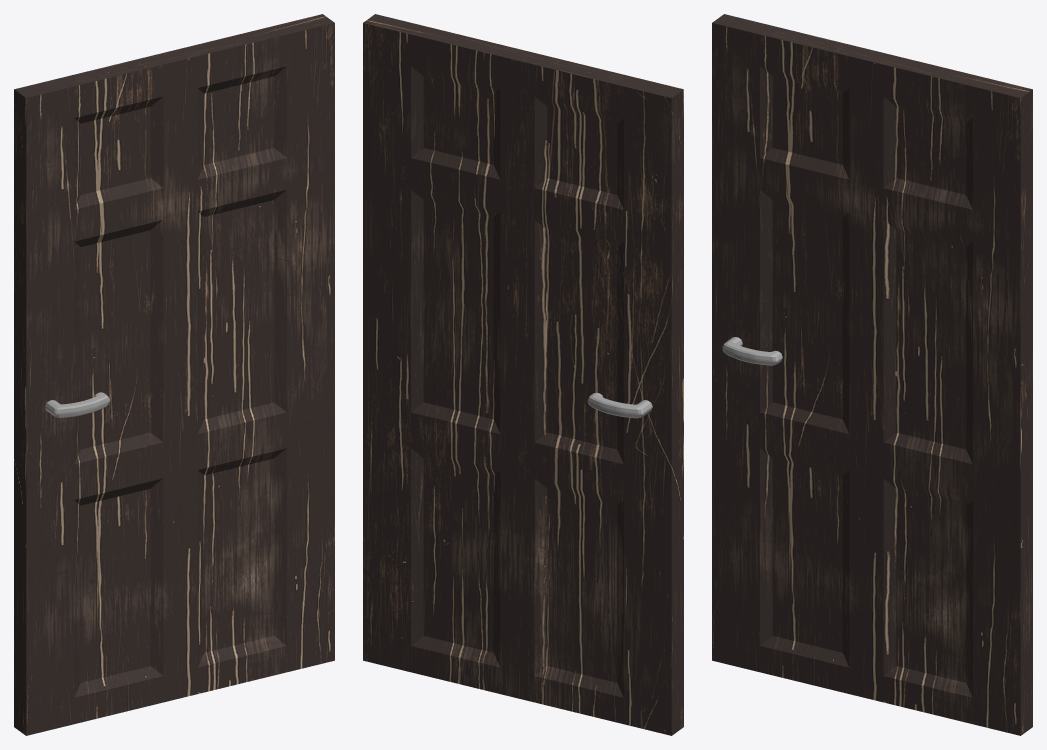
Rendered from door.fbx.
The picture shows the model from 3 angles, left to right: view 1: azimuth 30°, elevation 25°; view 2: azimuth 150°, elevation 25°; view 3: azimuth 330°, elevation 25°; orthographic projection.
Visible parts, largest first — view 1: Door; view 2: Door; view 3: Door.
Part boxes in pixels (x1,y1,x2,y2): Door: (14, 14, 334, 735); Door: (363, 14, 683, 735); Door: (712, 14, 1032, 735).
Size of the model in its own units: 231 by 456 by 49.84.
